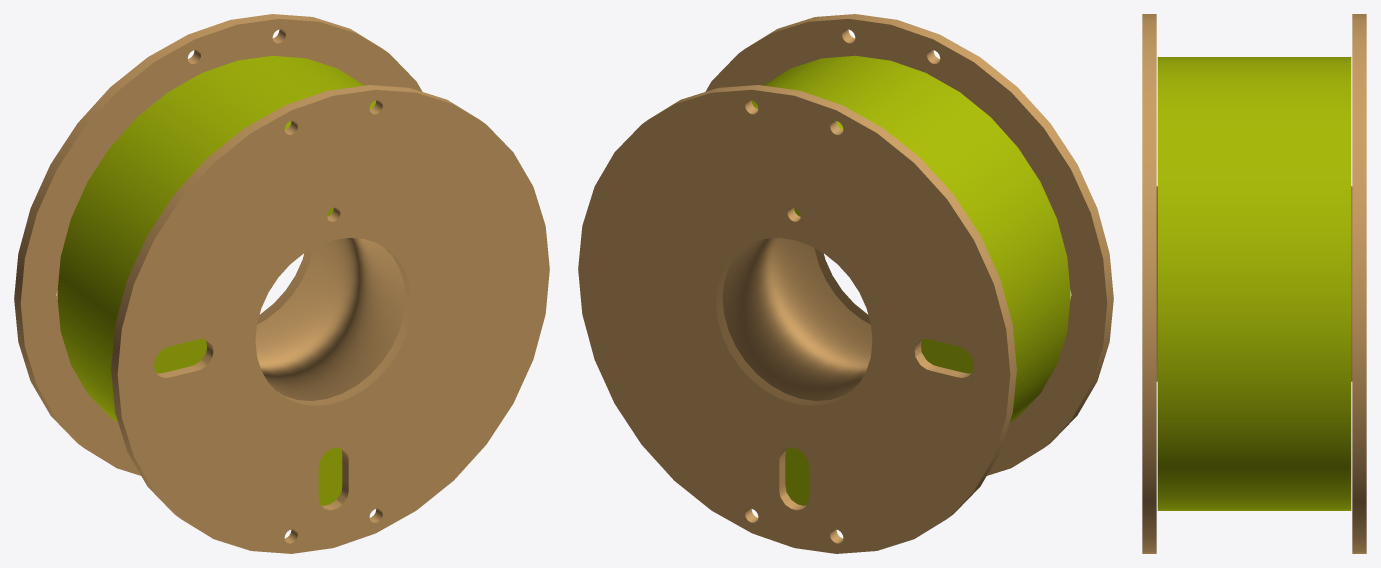
Rendered from PLAYellow.glb.
The picture shows the model from 3 angles, left to right: view 1: azimuth 30°, elevation 25°; view 2: azimuth 150°, elevation 25°; view 3: azimuth 270°, elevation 25°; orthographic projection. The views are drawn at different scales.
Parts seen in each view (by area): view 1: PLA Yellow; view 2: PLA Yellow; view 3: PLA Yellow.
Part boxes in pixels (x1,y1,x2,y2): PLA Yellow: (14, 14, 549, 553); PLA Yellow: (578, 14, 1113, 553); PLA Yellow: (1142, 14, 1366, 553).
Size of the model in its own units: 1.27 by 1.27 by 0.5262.
Materials: 3 (1 with a texture image).
